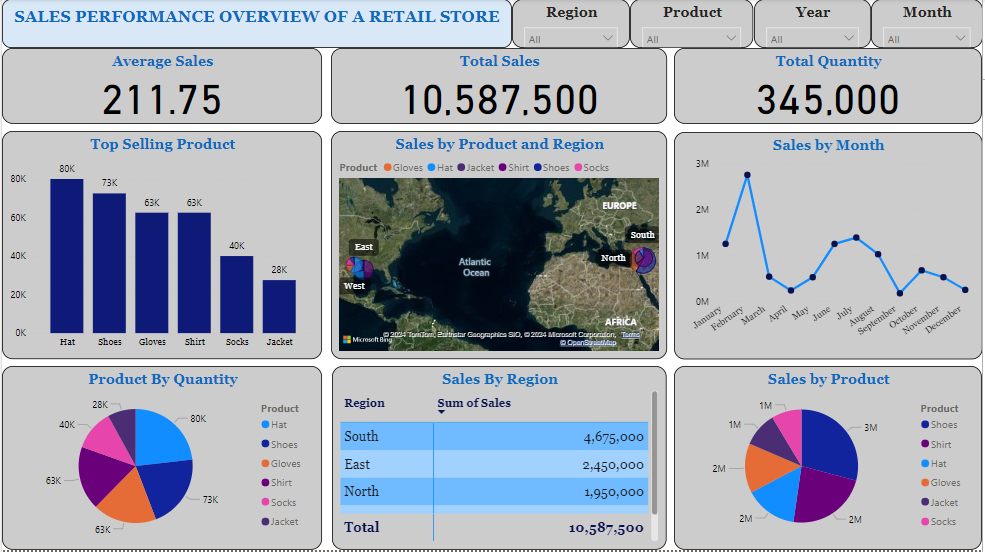

The page's visual inventory and layout, read from the dashboard file:
{"tool":"powerbi","page":{"name":"Page 1","canvas":[1280,720],"ordinal":0},"visuals":[{"type":"slicer","title":"Product ","fields":{"Values":["SalesData.Product"]},"box":[820.8,0,161.1,63.9],"z":0},{"type":"textbox","box":[0,0,666.1,64],"z":1000},{"type":"slicer","title":"Region","fields":{"Values":["SalesData.Region"]},"box":[666.7,0,154.2,63.9],"z":2000},{"type":"columnChart","title":"Top Selling Product","fields":{"Category":["SalesData.Product"],"Y":["Sum(SalesData.Quantity)"]},"box":[0,173,418.1,298],"z":3000},{"type":"map","title":"Sales by Product and Region","fields":{"Series":["SalesData.Product"],"Category":["SalesData.Region"],"Size":["Sum(SalesData.Sales)"]},"box":[429.3,173,438.9,298],"z":4000},{"type":"lineChart","title":"Sales by Month","fields":{"Category":["SalesData.OrderDate.Variation.Date Hierarchy.Month"],"Y":["Sum(SalesData.Sales)"]},"box":[877.8,173.6,402.8,297.2],"z":5000},{"type":"pivotTable","title":"Sales By Region","fields":{"Rows":["SalesData.Region"],"Values":["Sum(SalesData.Sales)"]},"box":[430.9,479,437.3,240.3],"z":6000},{"type":"card","title":"Average Sales","fields":{"Values":["SalesData.Average Sales"]},"box":[0,64.1,418.1,99.3],"z":7000},{"type":"pieChart","title":"Sales by Product","fields":{"Category":["SalesData.Product"],"Y":["Sum(SalesData.Sales)"]},"box":[877.9,479,402.1,240.3],"z":8000},{"type":"slicer","title":"Year","fields":{"Values":["SalesData.OrderDate.Variation.Date Hierarchy.Year"]},"box":[981.9,0,152.8,63.9],"z":9000},{"type":"slicer","title":"Month","fields":{"Values":["SalesData.OrderDate.Variation.Date Hierarchy.Month"]},"box":[1134.7,0,145.8,63.9],"z":10000},{"type":"card","title":"Total Sales","fields":{"Values":["SalesData.Total Sales"]},"box":[429.3,64.1,438.9,99.3],"z":11000},{"type":"pieChart","title":"Product By Quantity","fields":{"Category":["SalesData.Product"],"Y":["Sum(SalesData.Quantity)"]},"box":[0,479,418.1,240.3],"z":12000},{"type":"card","title":"Total Quantity","fields":{"Values":["SalesData.Total Quantity"]},"box":[877.9,64.1,402.1,99.3],"z":13000}]}

Visuals, with their boxes in screenshot pixels (x1, y1, x2, y2), scaled from the page's 1280x720 canvas onto the 985x552 screenshot:
"Product " slicer: 632 0 756 49
textbox: 0 0 513 49
"Region" slicer: 513 0 632 49
"Top Selling Product" columnChart: 0 133 322 361
"Sales by Product and Region" map: 330 133 668 361
"Sales by Month" lineChart: 675 133 984 361
"Sales By Region" pivotTable: 332 367 668 551
"Average Sales" card: 0 49 322 125
"Sales by Product" pieChart: 676 367 984 551
"Year" slicer: 756 0 873 49
"Month" slicer: 873 0 984 49
"Total Sales" card: 330 49 668 125
"Product By Quantity" pieChart: 0 367 322 551
"Total Quantity" card: 676 49 984 125
